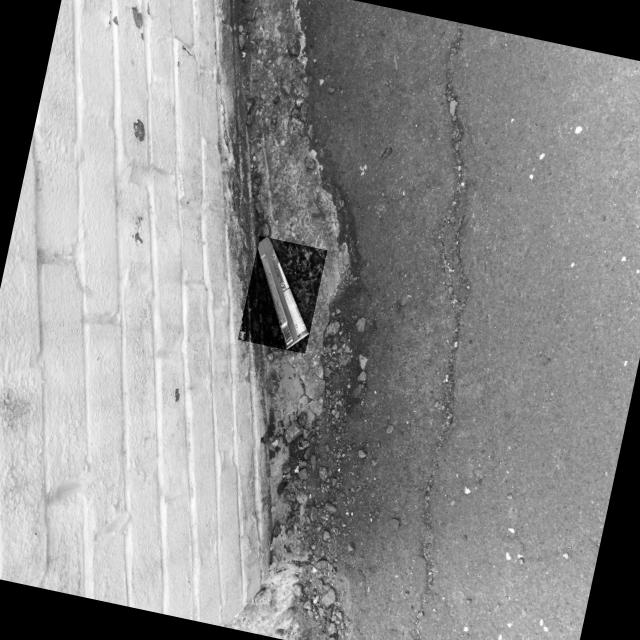Other Carton: (258, 237, 309, 350)
